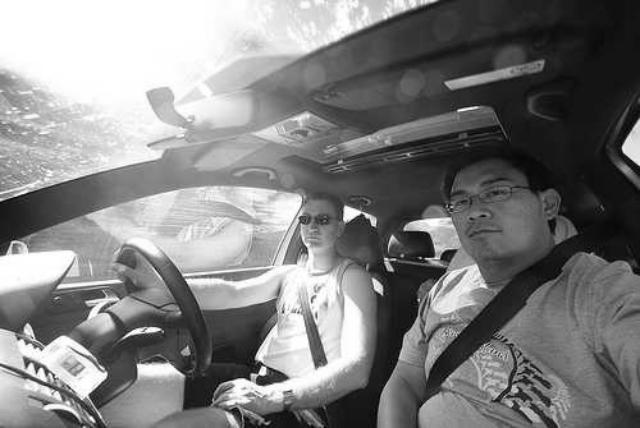SafeDriving: (484, 182, 516, 203), (444, 193, 474, 211)
Seatbelt: (422, 233, 586, 405), (295, 251, 331, 373)
